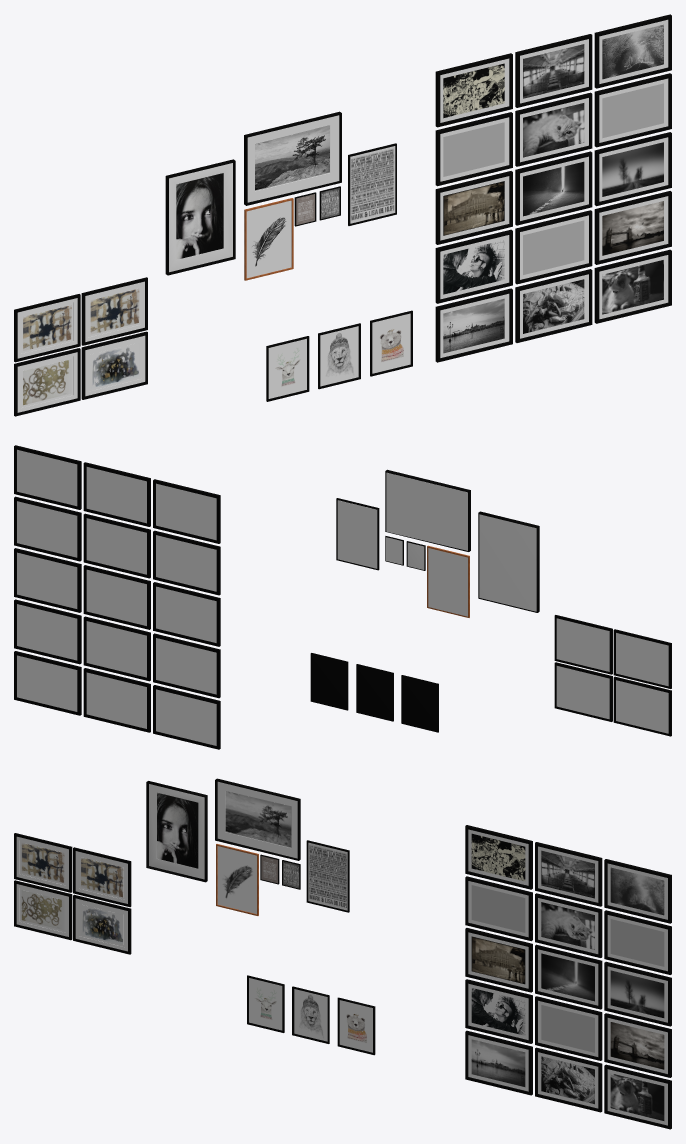
The model's file is photoframe2.fbx.
The picture shows the model from 3 angles, top to bottom: view 1: azimuth 30°, elevation 25°; view 2: azimuth 150°, elevation 25°; view 3: azimuth 330°, elevation 25°; orthographic projection. The views are drawn at different scales.
Parts seen in each view (by area): view 1: picture002_02, picture002_04, picture001_03, picture001_015, picture001_06, picture001_010, picture001_01, picture001_02, picture001_05, picture001_08, picture001_013, picture001_014 (+16 smaller); view 2: picture002_02, picture002_04, picture001_04, picture001_015, picture001_010, picture001_011, picture001_012, picture001_014, picture001_05, picture001_09, picture001_01, picture001_02 (+16 smaller); view 3: picture002_02, picture002_04, picture001_05, picture001_014, picture001_06, picture001_07, picture001_015, picture001_08, picture001_09, picture001_011, picture001_012, picture001_01 (+15 smaller).
Part boxes in pixels (left/top/right/bottom): picture002_02: left=165, top=159, right=235, bottom=275; picture002_04: left=244, top=111, right=341, bottom=205; picture001_03: left=594, top=14, right=671, bottom=88; picture001_015: left=435, top=288, right=512, bottom=362; picture001_06: left=515, top=269, right=592, bottom=342; picture001_010: left=515, top=210, right=592, bottom=284; picture001_01: left=594, top=191, right=671, bottom=264; picture001_02: left=594, top=249, right=671, bottom=323; picture001_05: left=594, top=132, right=671, bottom=206; picture001_08: left=515, top=92, right=592, bottom=166; picture001_013: left=435, top=171, right=512, bottom=244; picture001_014: left=435, top=229, right=512, bottom=303; picture002_02: left=478, top=511, right=539, bottom=612; picture002_04: left=385, top=469, right=470, bottom=551; picture001_04: left=14, top=496, right=81, bottom=561; picture001_015: left=153, top=685, right=220, bottom=749; picture001_010: left=83, top=616, right=150, bottom=681; picture001_011: left=153, top=479, right=220, bottom=543; picture001_012: left=153, top=530, right=220, bottom=595; picture001_014: left=153, top=633, right=220, bottom=698; picture001_05: left=14, top=548, right=81, bottom=612; picture001_09: left=83, top=565, right=150, bottom=629; picture001_01: left=14, top=599, right=81, bottom=664; picture001_02: left=14, top=651, right=81, bottom=715; picture002_02: left=146, top=781, right=207, bottom=882; picture002_04: left=215, top=778, right=300, bottom=860; picture001_05: left=604, top=961, right=671, bottom=1026; picture001_014: left=465, top=979, right=532, bottom=1043; picture001_06: left=535, top=1047, right=602, bottom=1112; picture001_07: left=535, top=842, right=602, bottom=906; picture001_015: left=465, top=1030, right=532, bottom=1095; picture001_08: left=535, top=893, right=602, bottom=957; picture001_09: left=535, top=944, right=602, bottom=1009; picture001_011: left=465, top=825, right=532, bottom=889; picture001_012: left=465, top=876, right=532, bottom=941; picture001_01: left=604, top=1013, right=671, bottom=1077.
Size of the model in its own units: 666 by 288 by 80.63.
